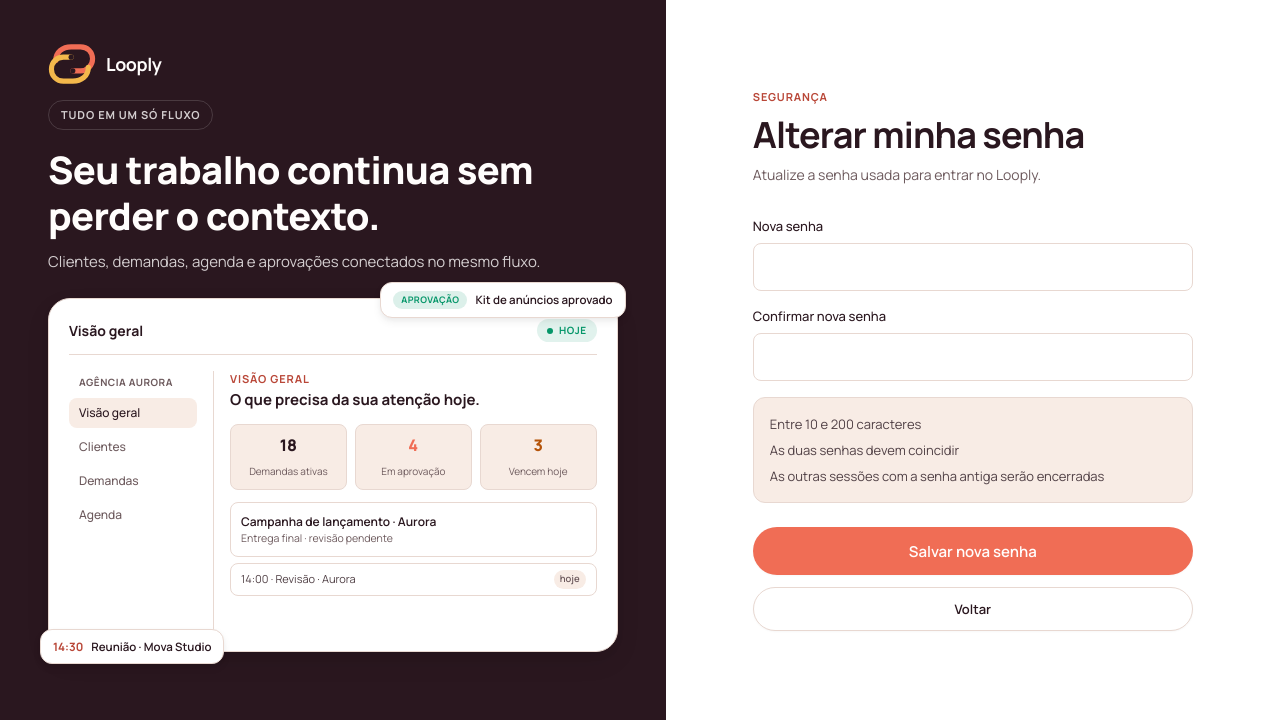
ChangePassword › shows the server message on a rejected password
This screenshot has width=1280, height=720.
Type "senhaforte123" into the password field labelled "Nova senha" at (973, 267), box left=753, top=242, right=1193, bottom=291
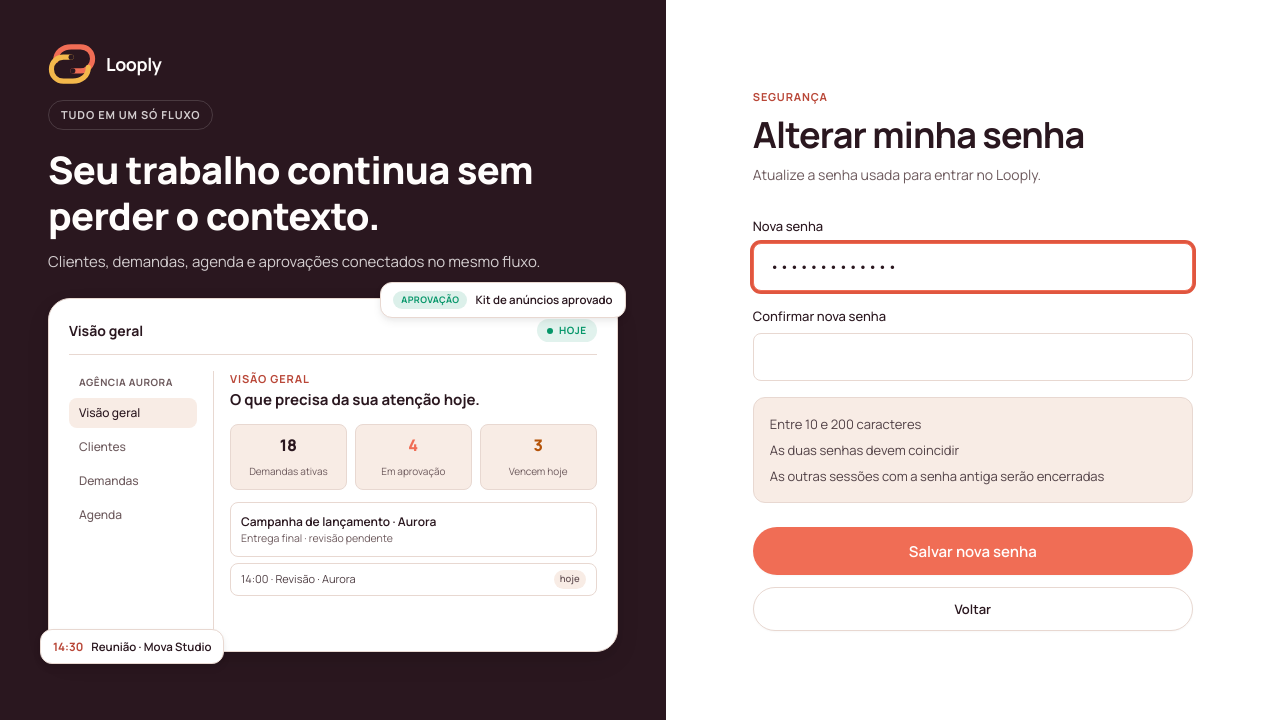
Type "senhaforte123" into the password field labelled "Confirmar nova senha" at (973, 357), box left=753, top=332, right=1193, bottom=381
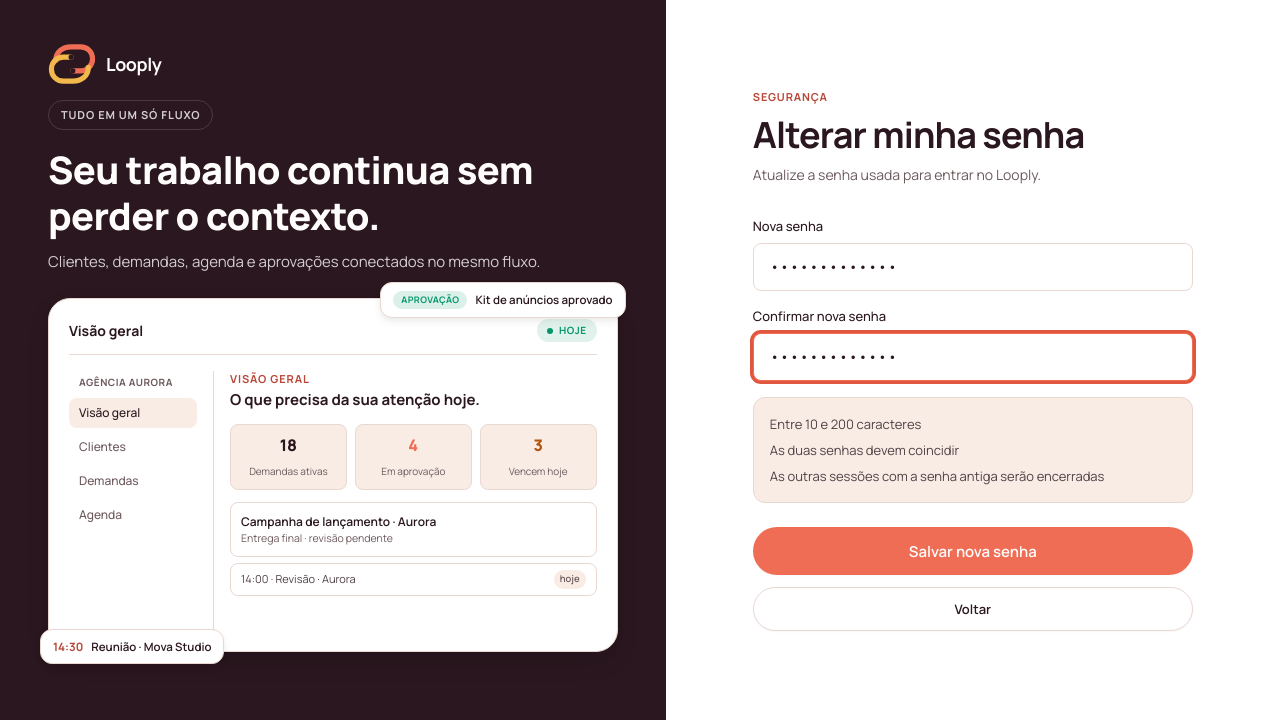
Click the button "Salvar nova senha" at (973, 551), box left=753, top=527, right=1193, bottom=575
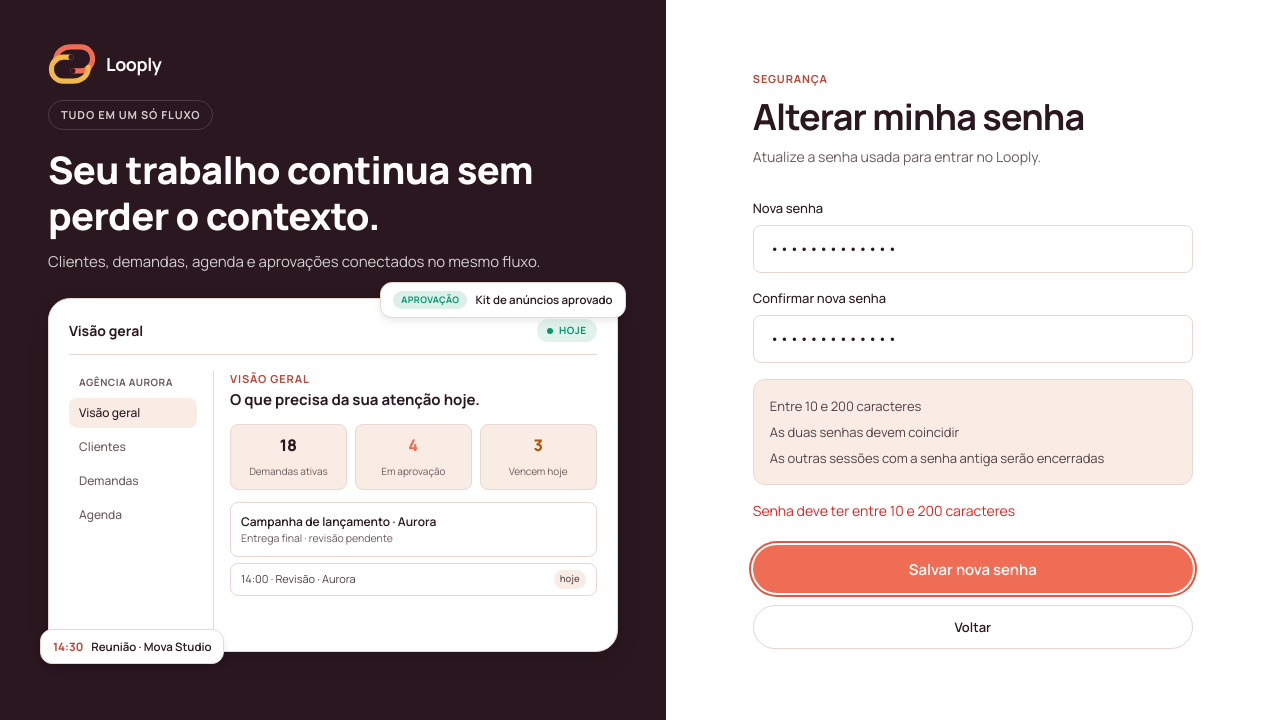
Now the message reads "Senha deve ter entre 10 e 200 caracteres", box left=753, top=501, right=1015, bottom=520
